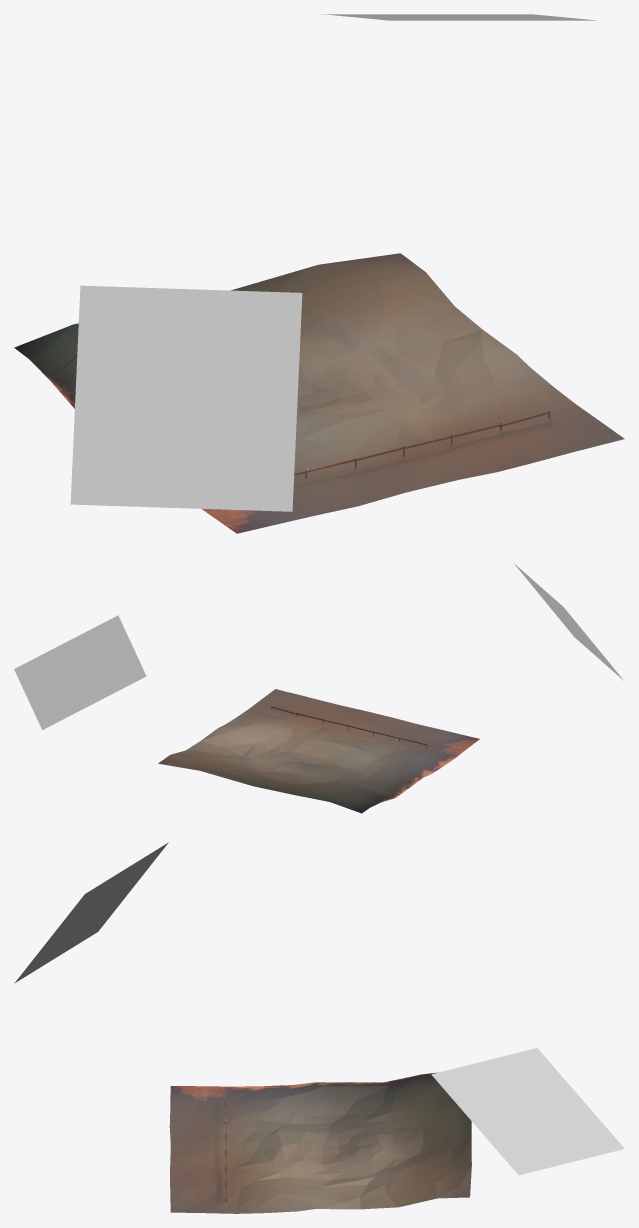
File: main_scene.dae
3 renders of one model, top to bottom at view 1: azimuth 30°, elevation 25°; view 2: azimuth 150°, elevation 25°; view 3: azimuth 270°, elevation 25°, orthographic. The views are drawn at different scales.
Visible parts, largest first — view 1: Plane, Plane.001, Plane.002, Cube; view 2: Plane, Plane.002, Plane.001; view 3: Plane, Plane.002, Plane.001.
Part boxes in pixels (x1=…): Plane: x1=14, y1=253, x2=624, y2=533; Plane.001: x1=70, y1=285, x2=302, y2=511; Plane.002: x1=321, y1=14, x2=597, y2=20; Cube: x1=294, y1=411, x2=548, y2=475; Plane: x1=158, y1=689, x2=479, y2=813; Plane.002: x1=14, y1=615, x2=146, y2=729; Plane.001: x1=514, y1=563, x2=623, y2=680; Plane: x1=169, y1=1072, x2=471, y2=1213; Plane.002: x1=431, y1=1048, x2=624, y2=1175; Plane.001: x1=14, y1=842, x2=168, y2=983.
Bounding box in the file's own units: 96.25 × 90.13 × 31.93.
